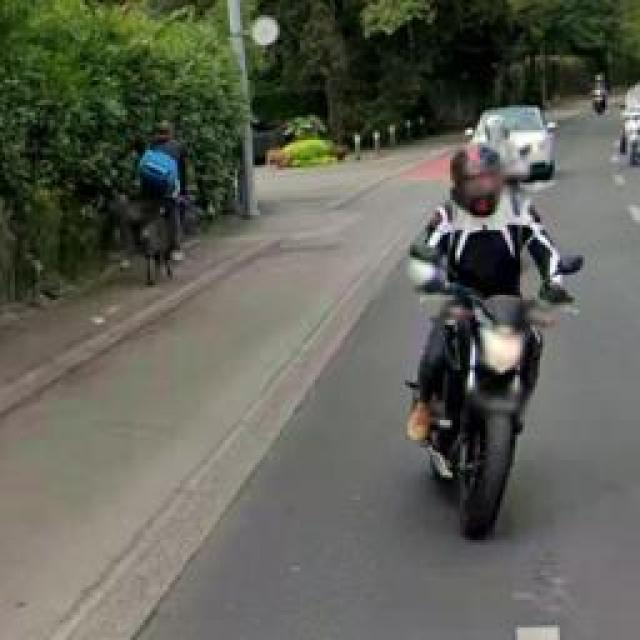car: (458, 88, 565, 195), (620, 73, 640, 175)
motorbike: (413, 133, 570, 542), (587, 70, 605, 125)
